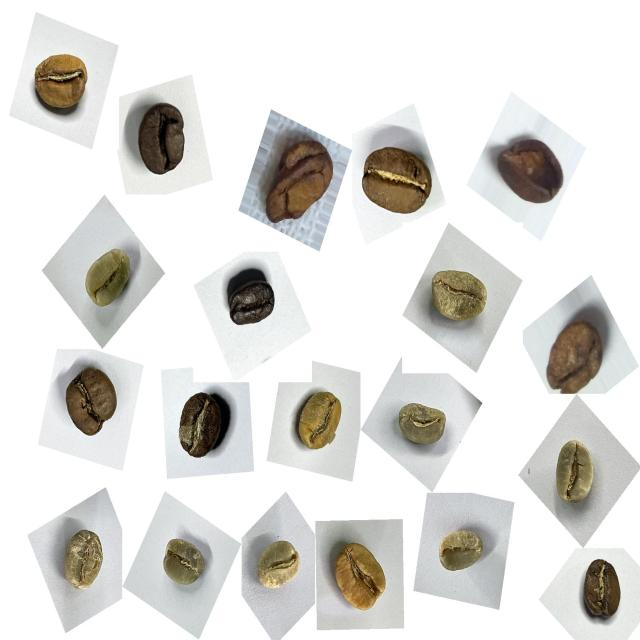bad: (254, 125, 342, 235), (491, 127, 574, 221), (538, 306, 617, 398)
dark: (126, 94, 198, 190), (218, 260, 284, 340)
green: (422, 258, 498, 339), (541, 430, 607, 520), (73, 240, 141, 322), (51, 520, 115, 602), (388, 394, 456, 461), (428, 520, 494, 588), (153, 529, 214, 600), (249, 533, 309, 601)
light: (324, 532, 398, 623), (26, 41, 100, 128), (283, 382, 351, 463)
medium: (352, 136, 441, 232), (55, 357, 130, 449), (166, 381, 236, 470), (573, 550, 634, 631)
